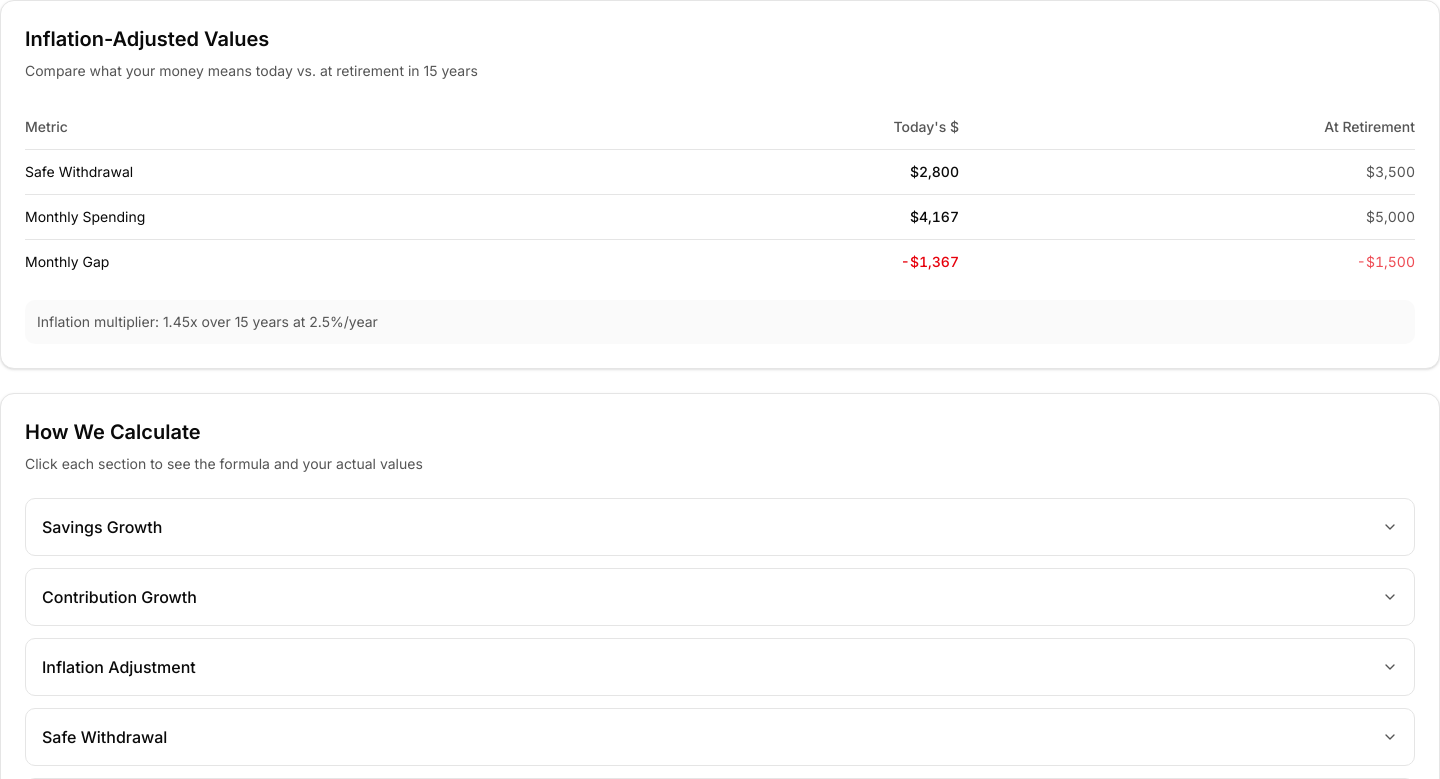
Test: FormulasTab › Formula Explanations › expands formula section on click
What coordinates should you click on to do the following:
click the button "Savings Growth"
I would click on:
 (102, 527)
Its box is 25,498 -> 1415,556.
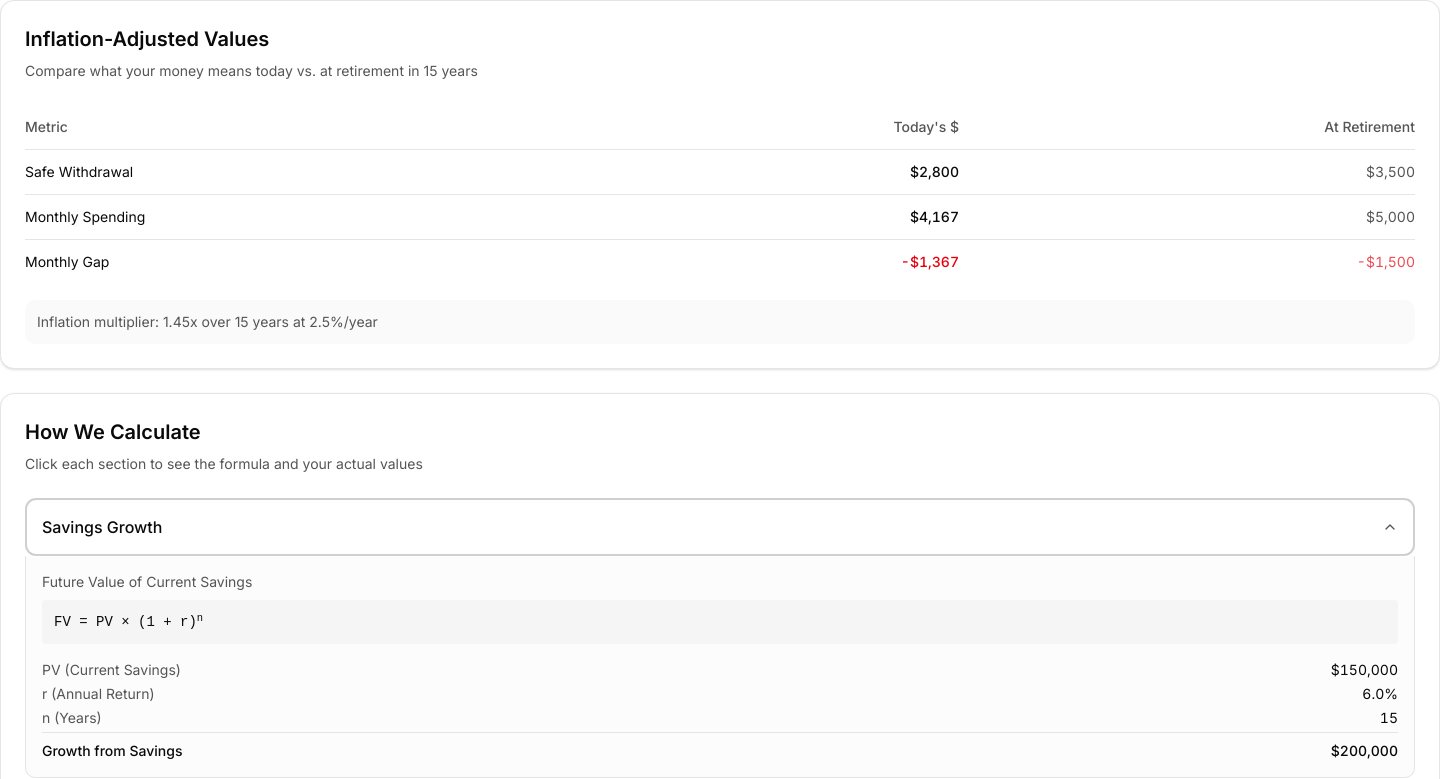
Now the text "Future Value of Current Savings" is shown, box 42,573 -> 252,590
Now the text "PV (Current Savings)" is shown, box 42,660 -> 181,680
